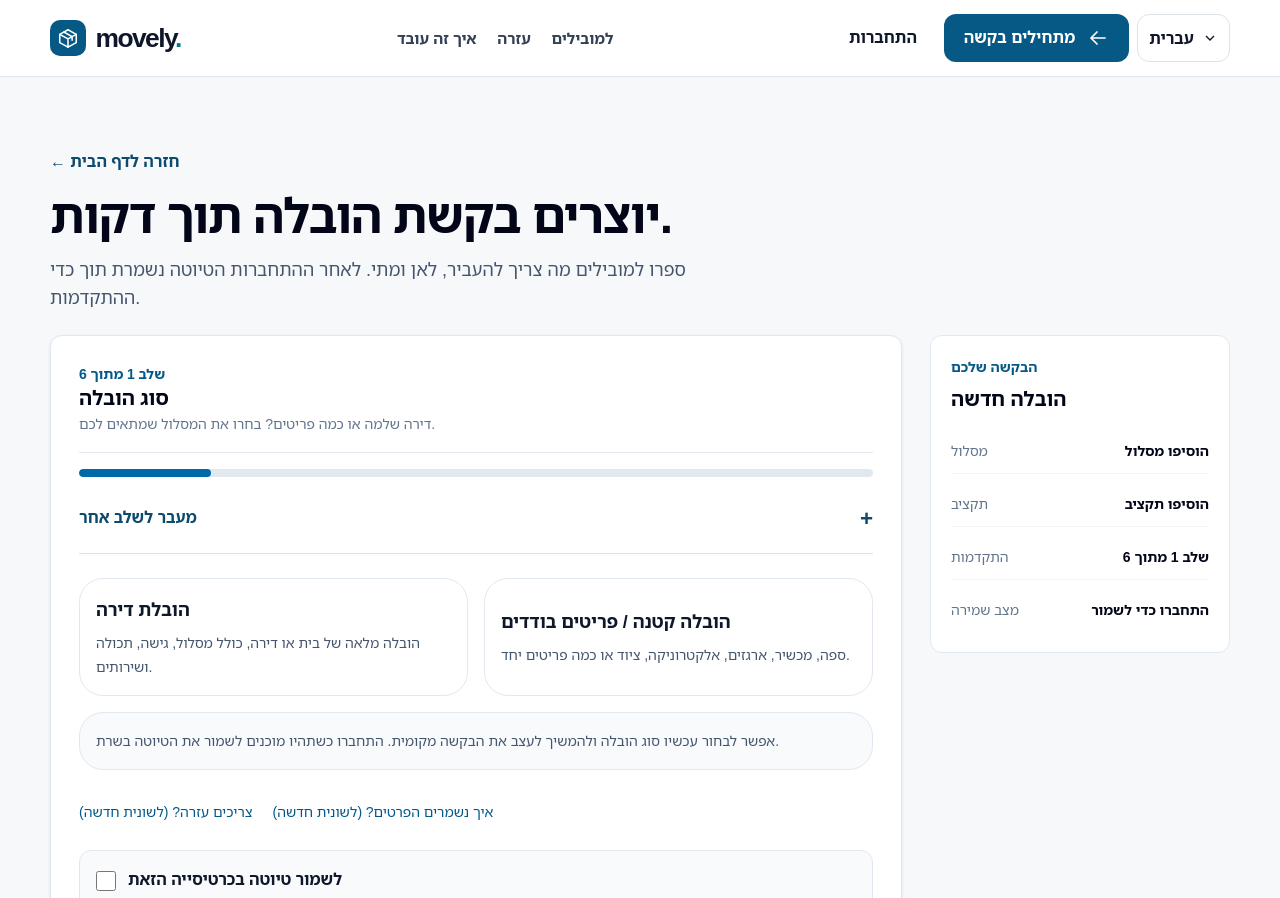
it: suggestion failure does not block a manually completed route and leaving the step aborts the next request
Step 1. Click the button "הובלת דירה הובלה מלאה" → (274, 637), box 79,578 -> 468,696
(page scrolled)
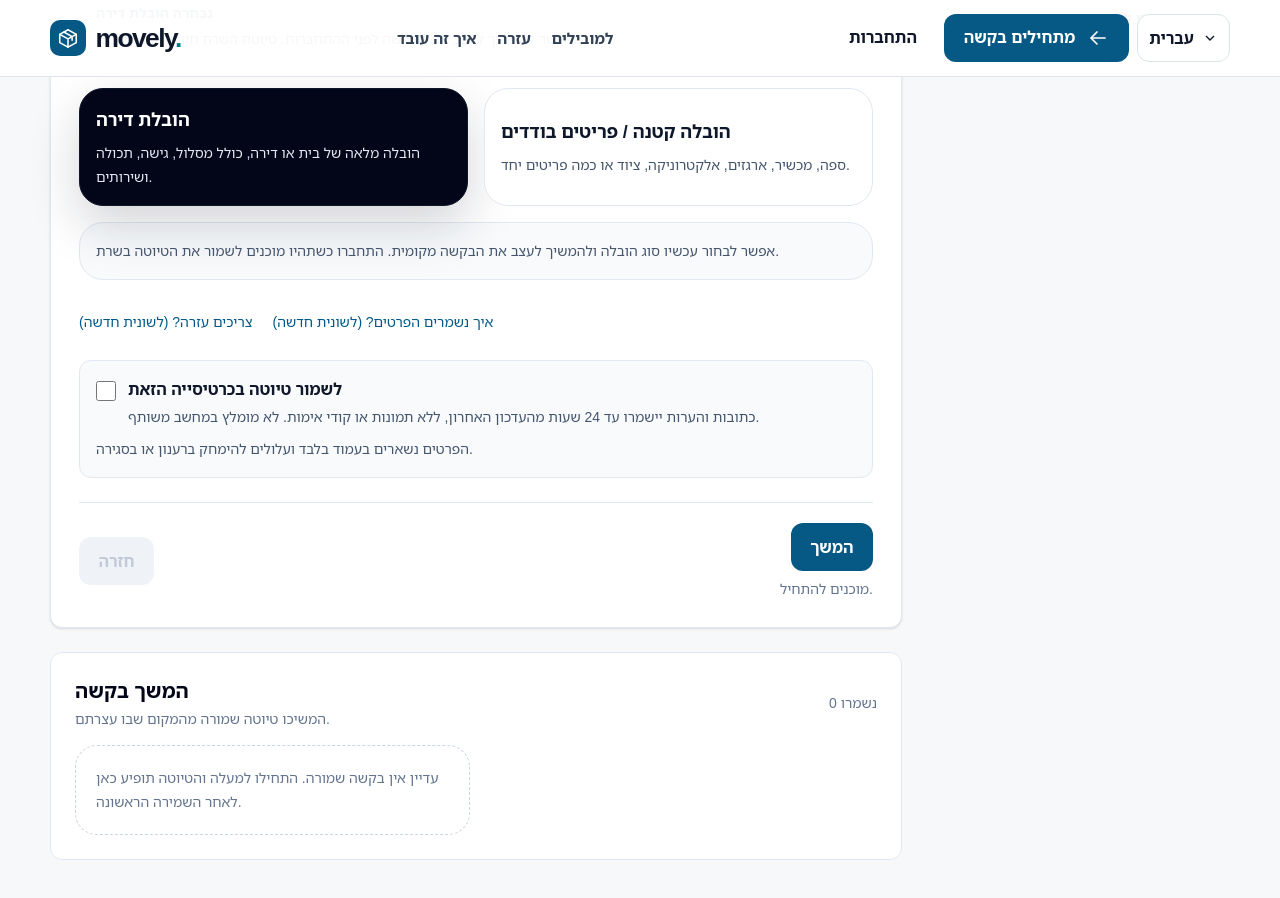
Step 2. Click the button "המשך" → (832, 547), box 791,523 -> 873,571
(page scrolled)
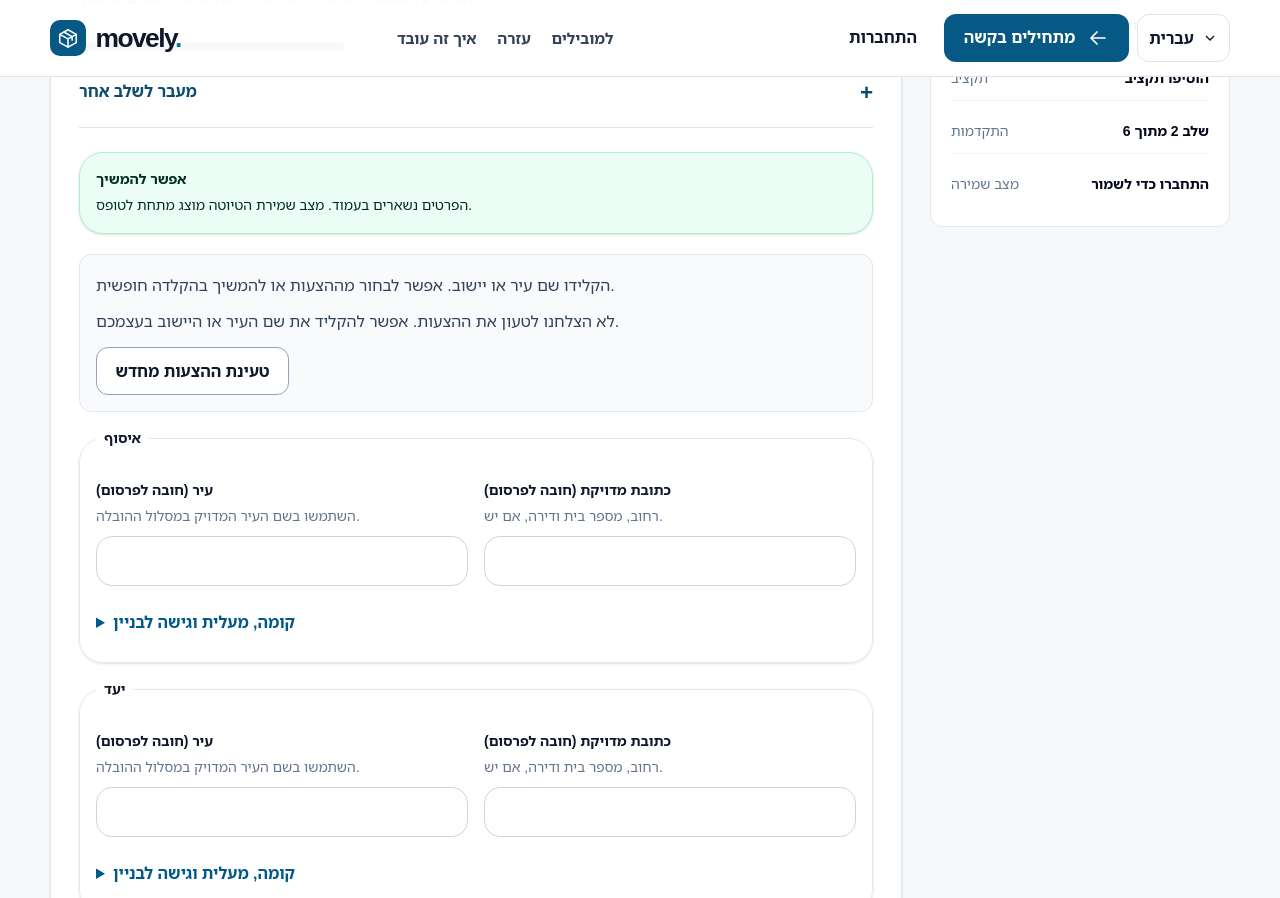
Expected: the button "טעינת ההצעות מחדש" is shown, 96,347 -> 289,395
Step 3. Type "Old name" into the field named "איסוף עיר" → (282, 561), box 96,536 -> 468,586
Step 4. Type "רחוב א 1" into the field named "איסוף כתובת מדויקת" → (670, 561), box 484,536 -> 856,586
Step 5. Type "Another old name" into the field named "יעד עיר" → (282, 812), box 96,787 -> 468,837
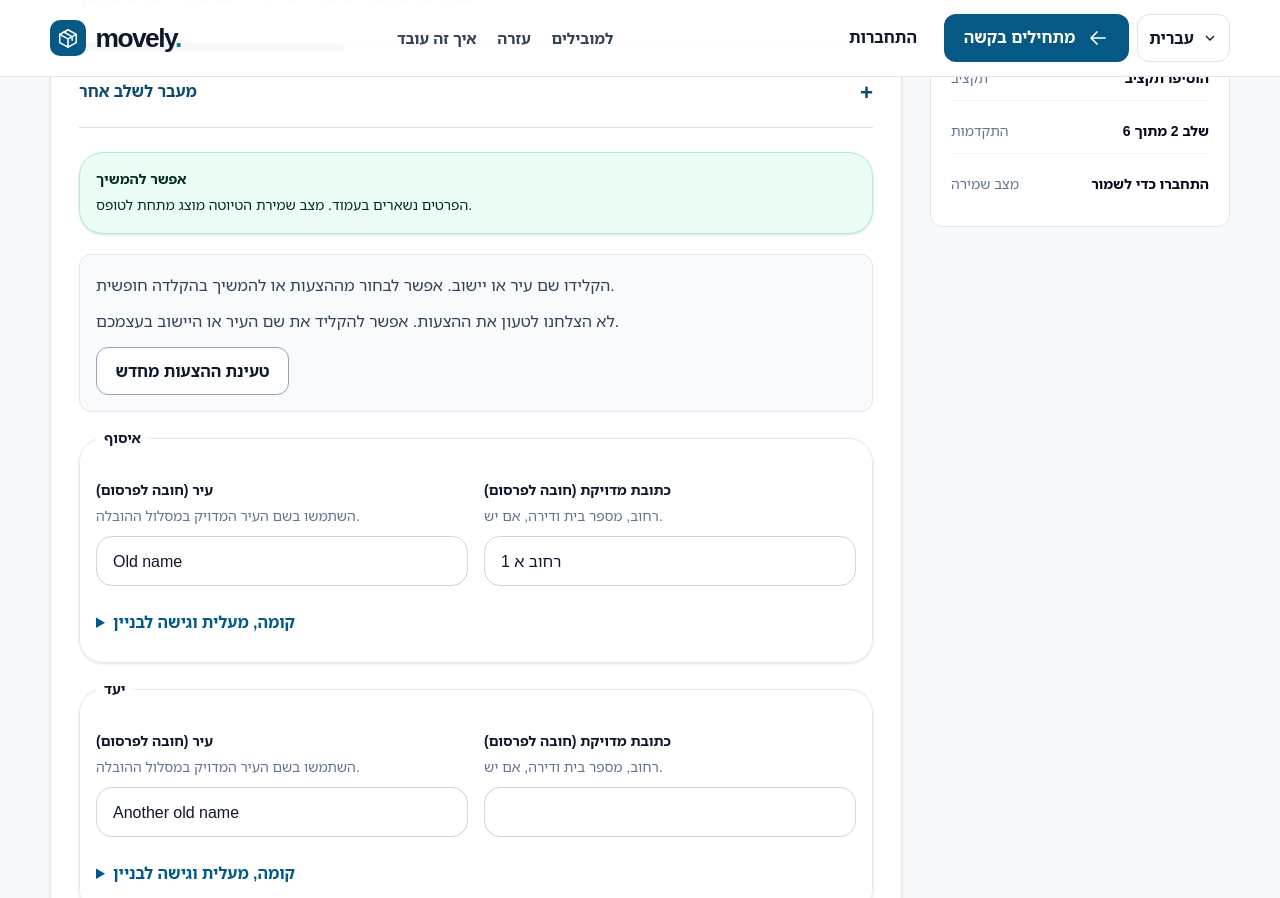
Step 6. Type "רחוב ב 2" into the field named "יעד כתובת מדויקת" → (670, 812), box 484,787 -> 856,837
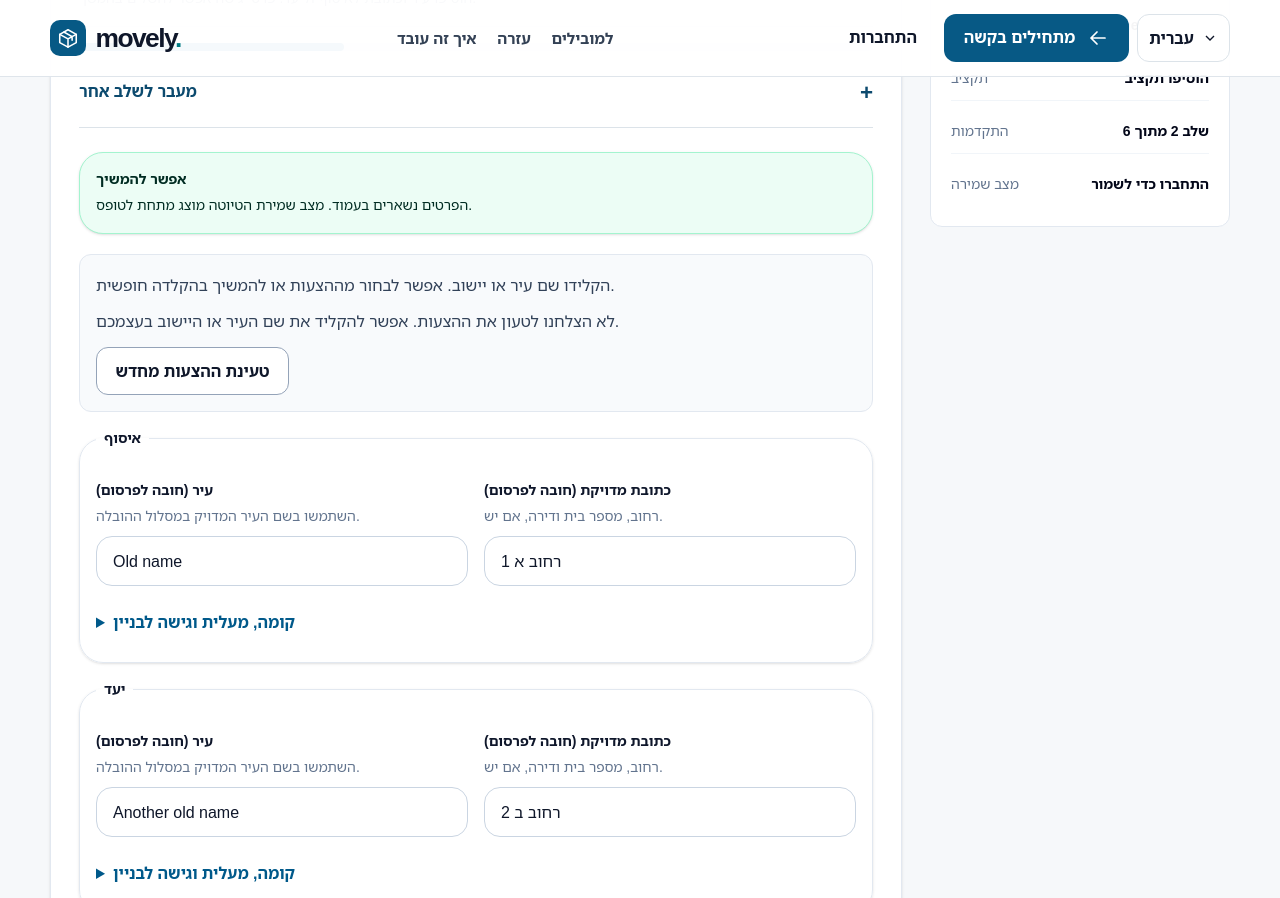
Step 7. Click the button "טעינת ההצעות מחדש" → (192, 371), box 96,347 -> 289,395
(page scrolled)
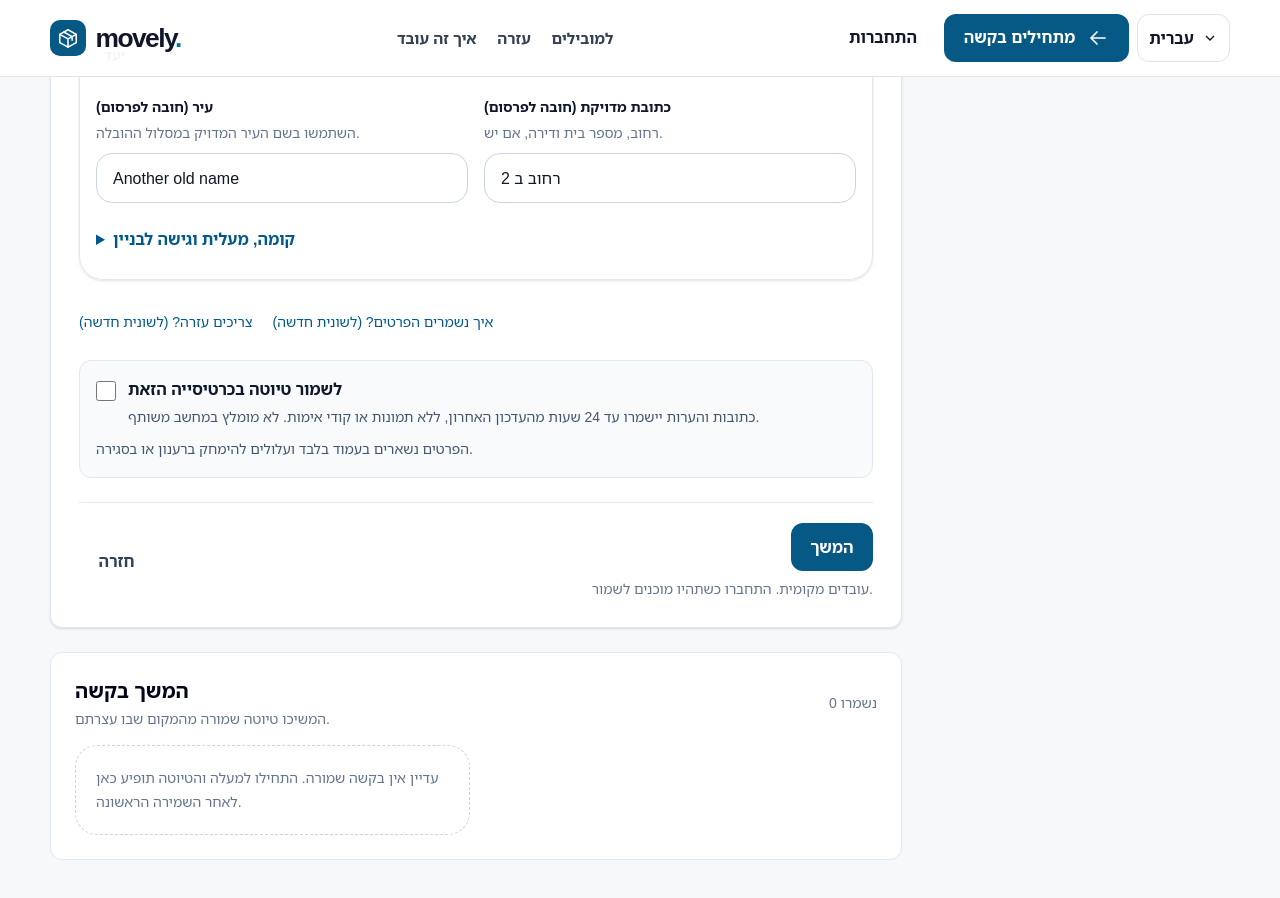
Step 8. Click the button "המשך" → (832, 547), box 791,523 -> 873,571
(page scrolled)
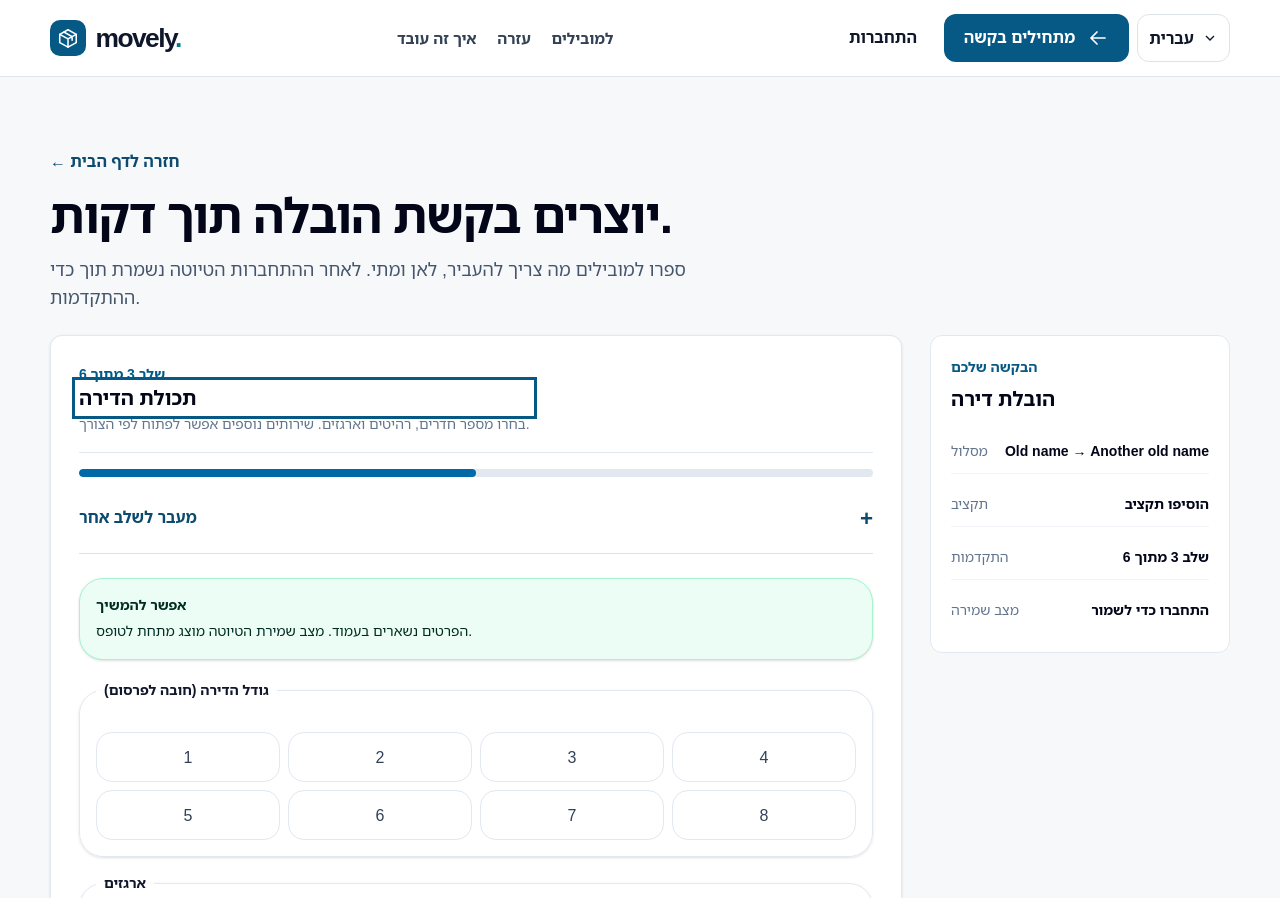
Expected: the dropdown labelled "איסוף עיר" is not shown
Expected: the heading "תכולת הדירה" is shown, 79,384 -> 196,411
